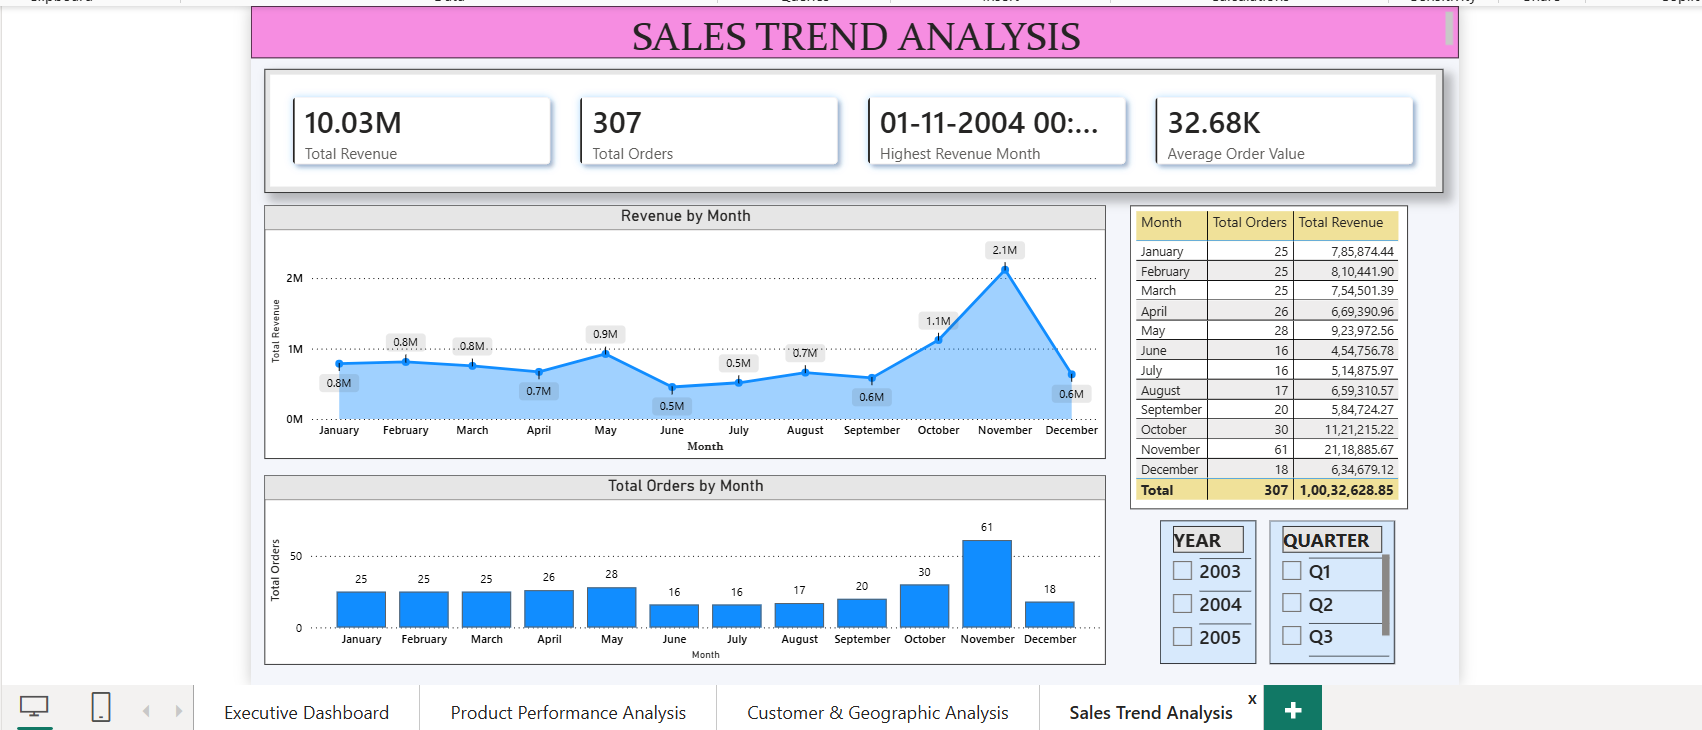

The dashboard page shown, as its layout file describes it:
{"tool":"powerbi","page":{"name":"Sales Trend Analysis","canvas":[1280,720],"ordinal":3},"visuals":[{"type":"textbox","box":[0,0,1280.8,55.1],"z":0},{"type":"cardVisual","fields":{"Data":["global_sales_cleaned.Total Revenue","global_sales_cleaned.Total Orders","global_sales_cleaned.Highest Revenue Month","global_sales_cleaned.Average Order Value"]},"box":[14.6,66.4,1250,131.2],"z":1000},{"type":"lineChart","title":" Revenue by Month","fields":{"Y":["global_sales_cleaned.Total Revenue"],"Category":["global_sales_cleaned.YEAR_MONTH.Variation.Date Hierarchy.Month"]},"box":[14.6,212.1,892.2,268.8],"z":2000},{"type":"clusteredColumnChart","fields":{"Y":["global_sales_cleaned.Total Orders"],"Category":["global_sales_cleaned.YEAR_MONTH.Variation.Date Hierarchy.Month"]},"box":[14.6,497.1,892.2,200.8],"z":3000},{"type":"tableEx","fields":{"Values":["global_sales_cleaned.YEAR_MONTH.Variation.Date Hierarchy.Month","global_sales_cleaned.Total Orders","global_sales_cleaned.Total Revenue"]},"box":[932.7,212.1,294.7,322.2],"z":4000},{"type":"slicer","fields":{"Values":["global_sales_cleaned.YEAR"]},"box":[963.4,545.7,102,152.2],"z":5000},{"type":"slicer","fields":{"Values":["global_sales_cleaned.QUARTER"]},"box":[1080,545.7,132.8,152.2],"z":6000}]}

Visuals, with their boxes on the page's 1280x720 design canvas (x1, y1, x2, y2). These are canvas units, not pixel positions in the 1702x730 screenshot, which may show the page scaled, cropped or inside an application window:
textbox: (left=0, top=0, right=1281, bottom=55)
cardVisual - global_sales_cleaned.Total Revenue x global_sales_cleaned.Total Orders: (left=15, top=66, right=1265, bottom=198)
" Revenue by Month" lineChart: (left=15, top=212, right=907, bottom=481)
clusteredColumnChart - global_sales_cleaned.Total Orders x global_sales_cleaned.YEAR_MONTH.Variation.Date Hierarchy.Month: (left=15, top=497, right=907, bottom=698)
tableEx - global_sales_cleaned.YEAR_MONTH.Variation.Date Hierarchy.Month x global_sales_cleaned.Total Orders: (left=933, top=212, right=1227, bottom=534)
slicer - global_sales_cleaned.YEAR: (left=963, top=546, right=1065, bottom=698)
slicer - global_sales_cleaned.QUARTER: (left=1080, top=546, right=1213, bottom=698)
